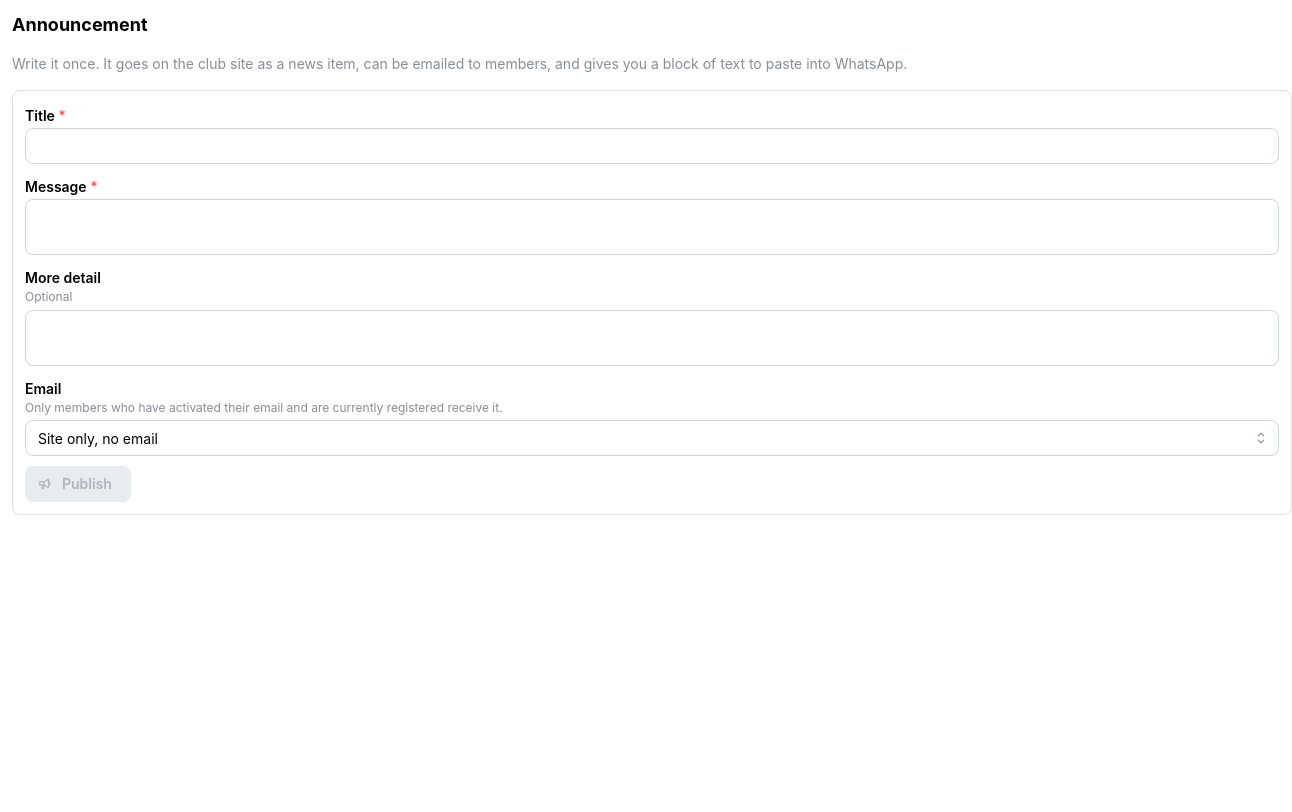
Scenario: AnnouncementForm (#74) › publishes, hands the item back, and shows a WhatsApp copy block
In the field labelled "Title *": (652, 146) [25,128,1279,164], type "Training cancelled"
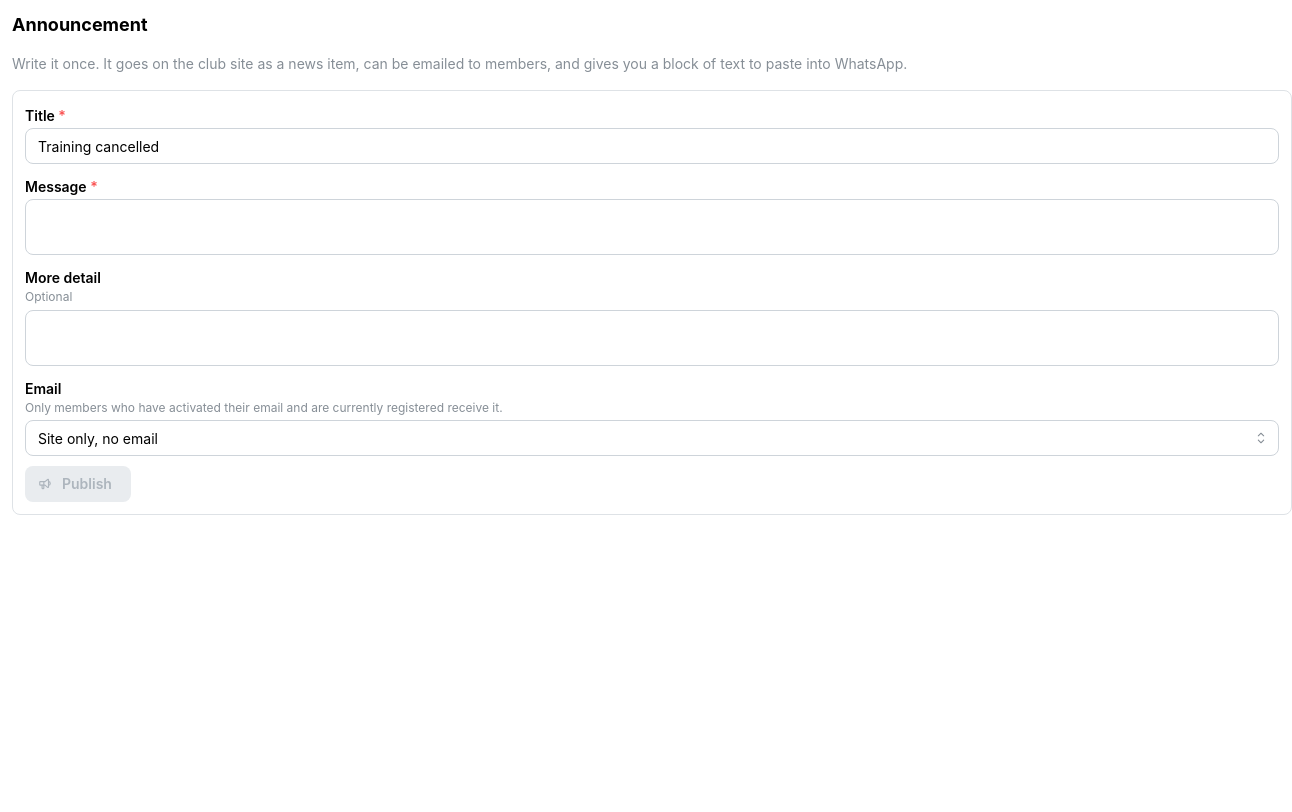
In the text box labelled "Message *": (652, 227) [25,199,1279,255], type "Pitch waterlogged."
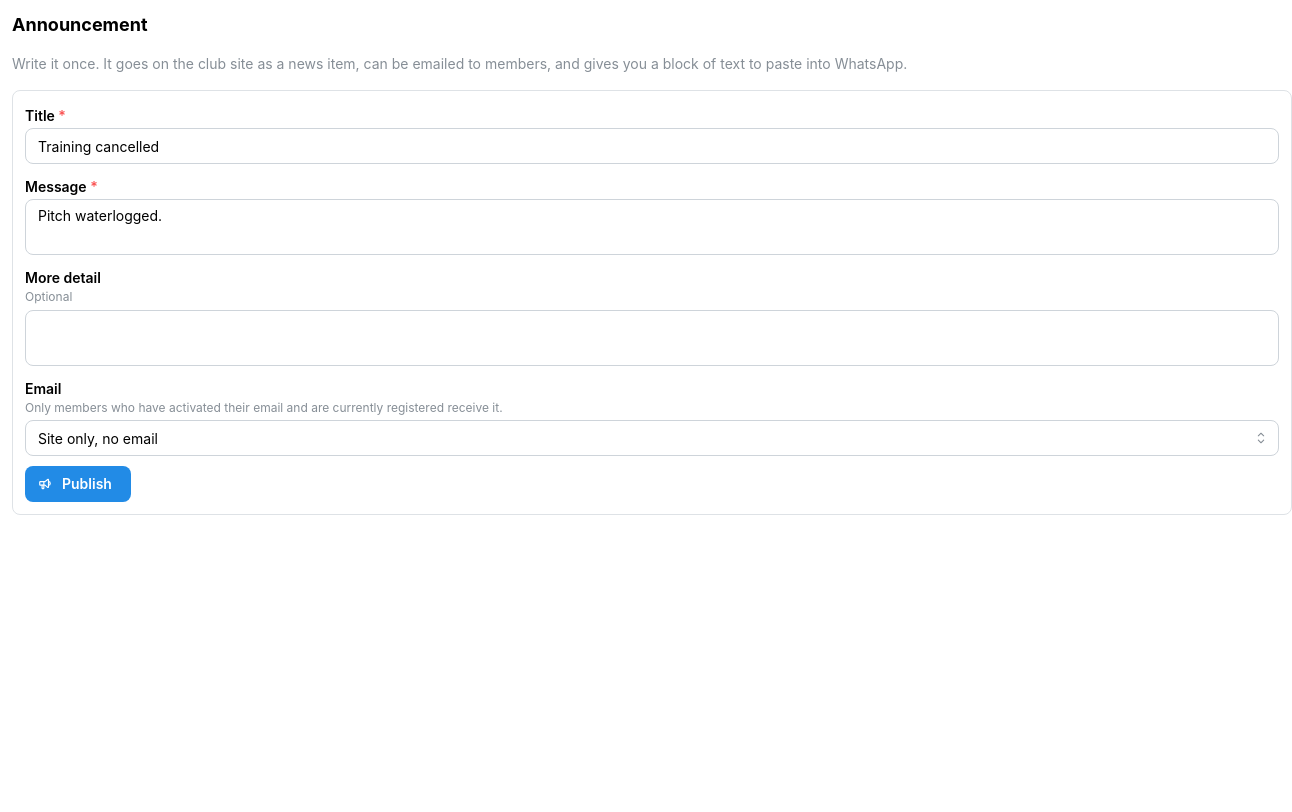
Click the button "Publish": (78, 484) [25,466,131,502]
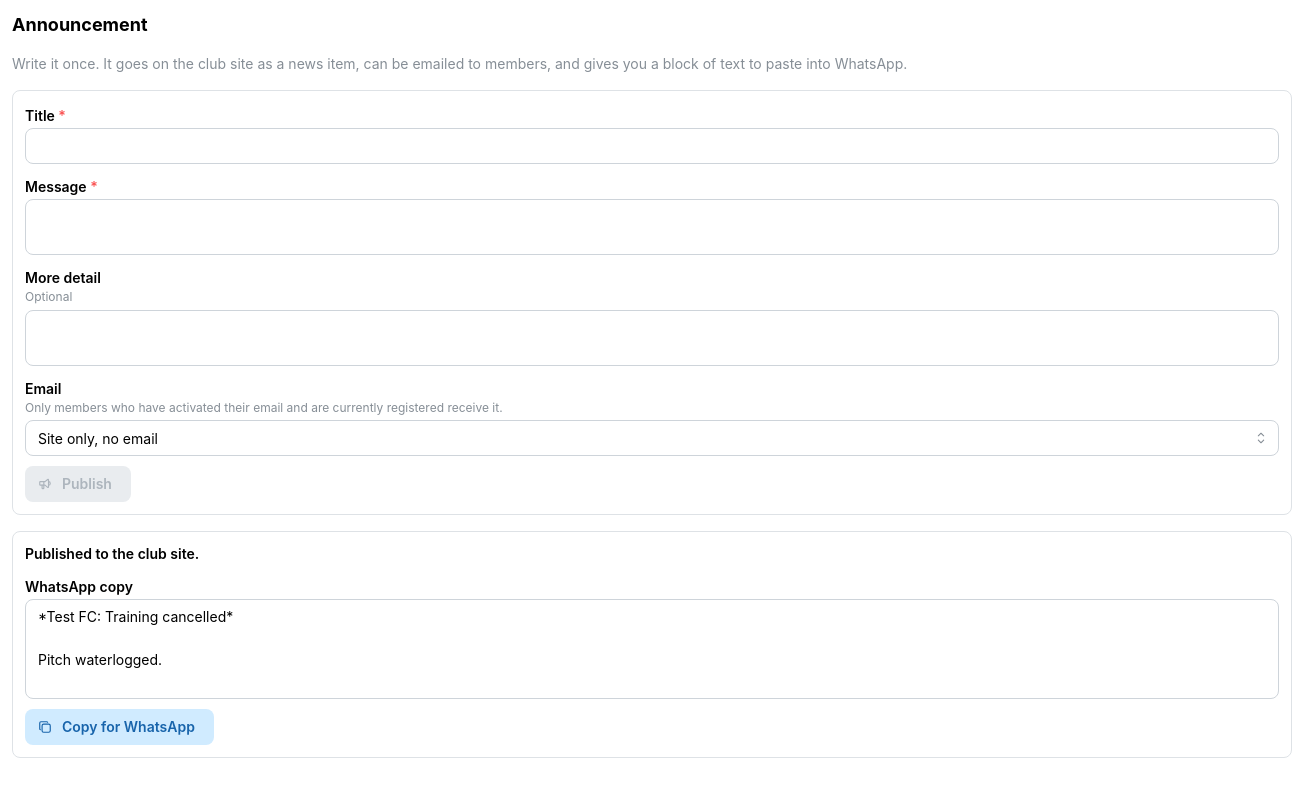
Expected: the button "Copy for WhatsApp" is shown, [25,709,214,745]
